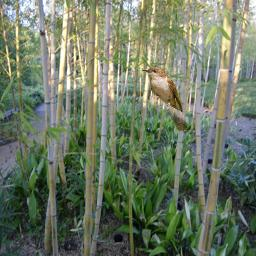Cuckoo: (141, 65, 187, 132)
